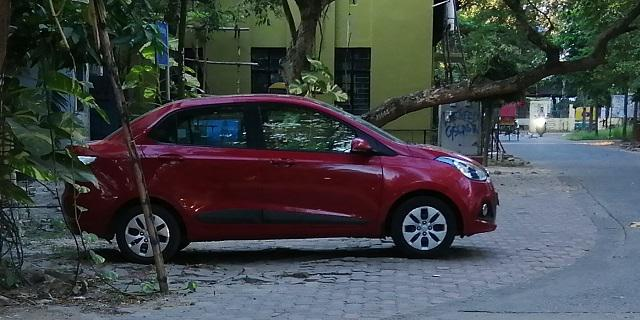Car: (66, 92, 503, 261)
